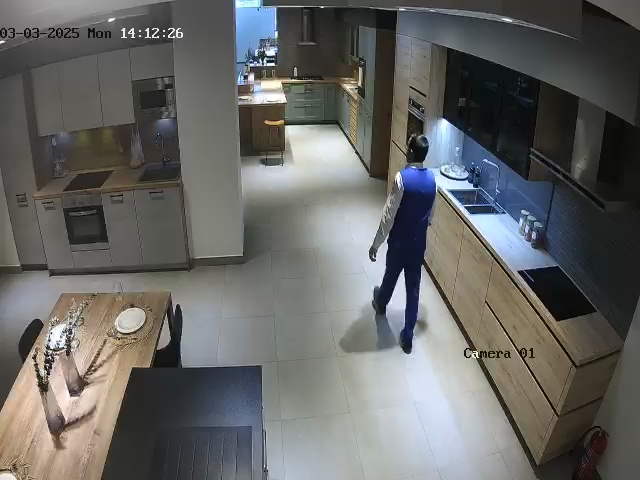employee: (368, 133, 437, 354)
